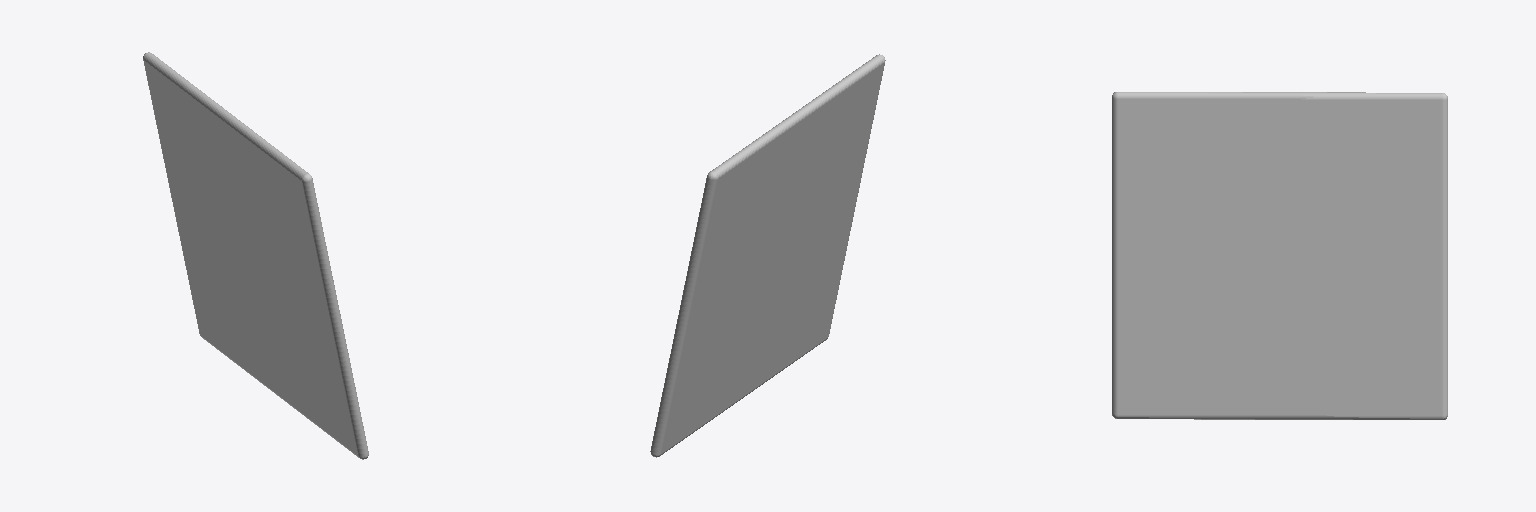
The model's file is pink_floyd.obj.
3 views of the same model, side by side, from view 1: azimuth 30°, elevation 25°; view 2: azimuth 150°, elevation 25°; view 3: azimuth 270°, elevation 25° (orthographic).
Visible parts, largest first — view 1: Plane; view 2: Plane; view 3: Plane.
Part boxes in pixels (x1,y1,x2,y2): Plane: (143,52,368,459); Plane: (650,54,885,457); Plane: (1112,92,1447,419).
Size of the model in its own units: 0.2506 by 1.01 by 1.03.